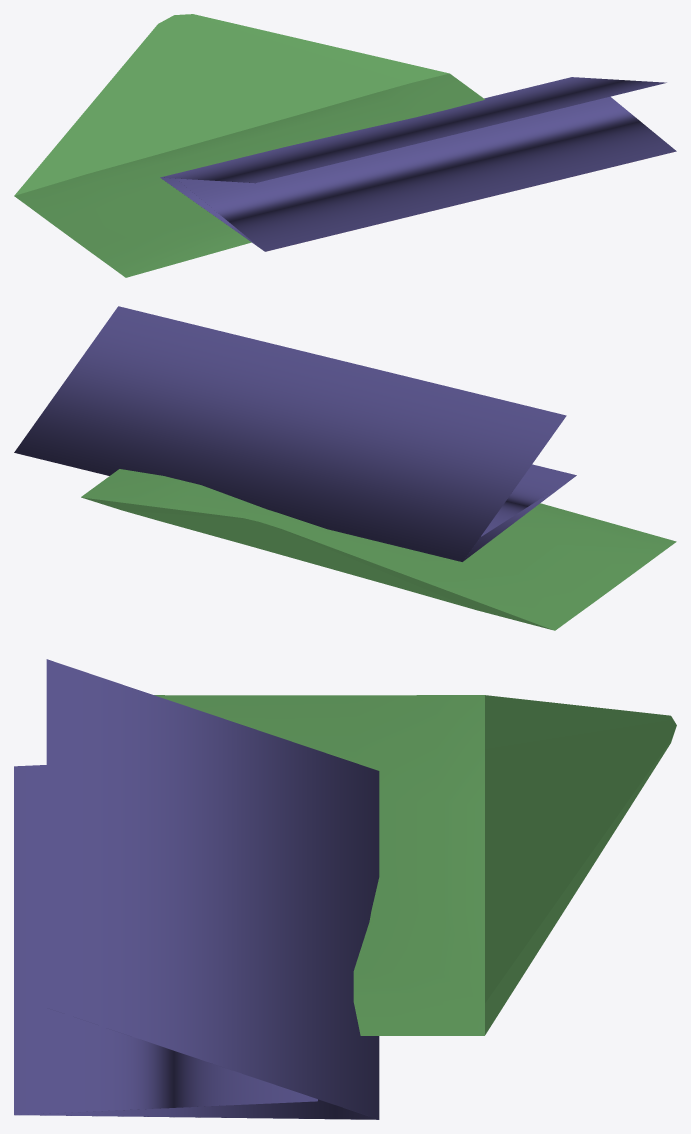
The model's file is Pile_3.fbx.
The picture shows the model from 3 angles, top to bottom: view 1: azimuth 30°, elevation 25°; view 2: azimuth 150°, elevation 25°; view 3: azimuth 270°, elevation 25°; orthographic projection. The views are drawn at different scales.
Parts seen in each view (by area): view 1: Pile_3; view 2: Pile_3; view 3: Pile_3.
Boxes of the visible parts, x1,y1,x2,y2 form: Pile_3: (14, 14, 676, 277); Pile_3: (14, 306, 676, 630); Pile_3: (14, 659, 676, 1119).
Bounding box in the file's own units: 1.09 × 0.1772 × 0.6829.
